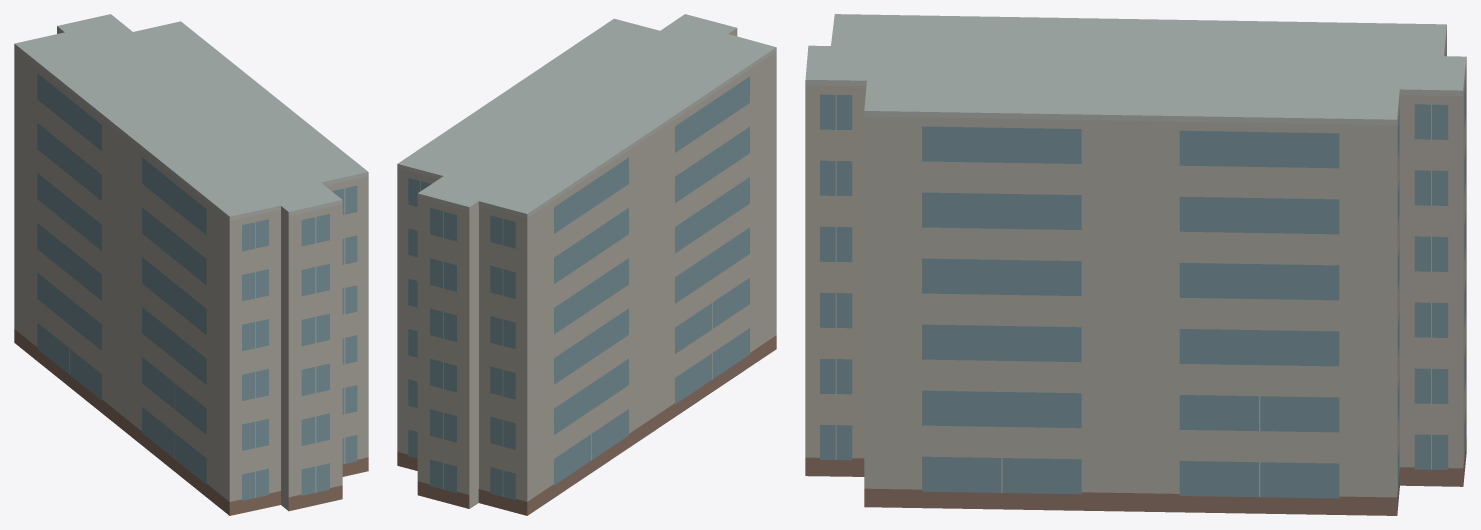
The model's file is survey-upis-32577167.glb.
3 views of the same model, side by side, from view 1: azimuth 30°, elevation 25°; view 2: azimuth 150°, elevation 25°; view 3: azimuth 270°, elevation 25° (orthographic). The views are drawn at different scales.
Visible parts, largest first — view 1: survey-upis-32577167.tmp; view 2: survey-upis-32577167.tmp; view 3: survey-upis-32577167.tmp.
Boxes of the visible parts, bbox=[...] form: survey-upis-32577167.tmp: bbox=[14, 14, 368, 515]; survey-upis-32577167.tmp: bbox=[397, 14, 776, 515]; survey-upis-32577167.tmp: bbox=[805, 14, 1466, 515].
Bounding box in the file's own units: 9.9 × 17.3 × 26.17.
